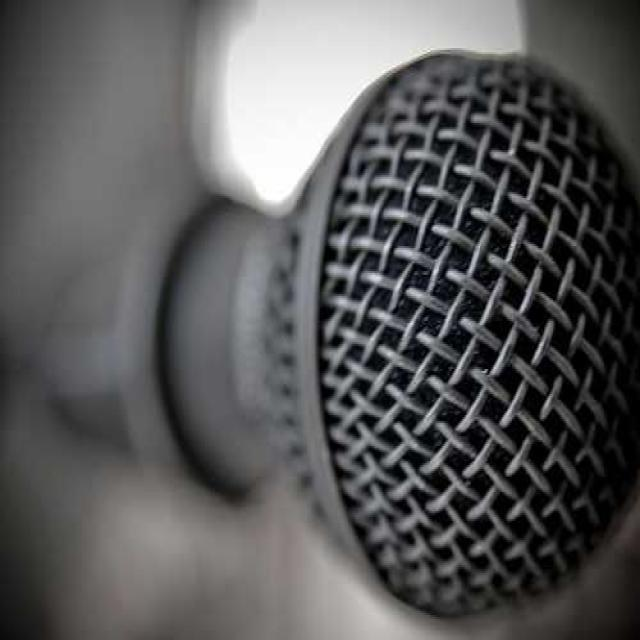microphone: (268, 44, 640, 605)
